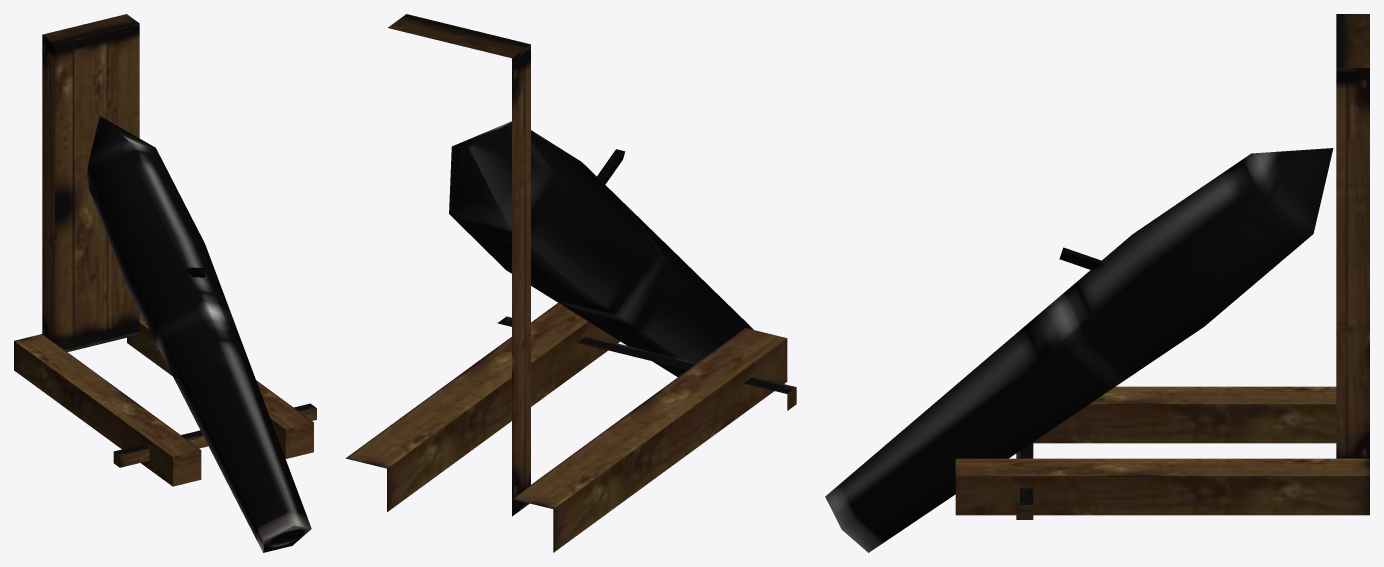
Rendered from Cannon03.glb.
3 renders of one model, left to right at view 1: azimuth 30°, elevation 25°; view 2: azimuth 150°, elevation 25°; view 3: azimuth 270°, elevation 25°, orthographic. The views are drawn at different scales.
Visible parts, largest first — view 1: model_Cannon03; view 2: model_Cannon03; view 3: model_Cannon03.
Boxes of the visible parts, bbox=[...] form: model_Cannon03: bbox=[14, 14, 316, 552]; model_Cannon03: bbox=[345, 14, 796, 552]; model_Cannon03: bbox=[825, 14, 1369, 552].
Bounding box in the file's own units: 0.7265 × 1.36 × 1.33.
Materials: 1 (1 with a texture image).
